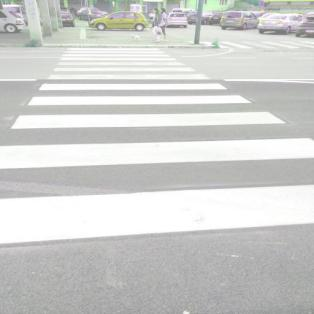Paso de Cebra: (5, 93, 289, 135), (44, 66, 214, 81)
